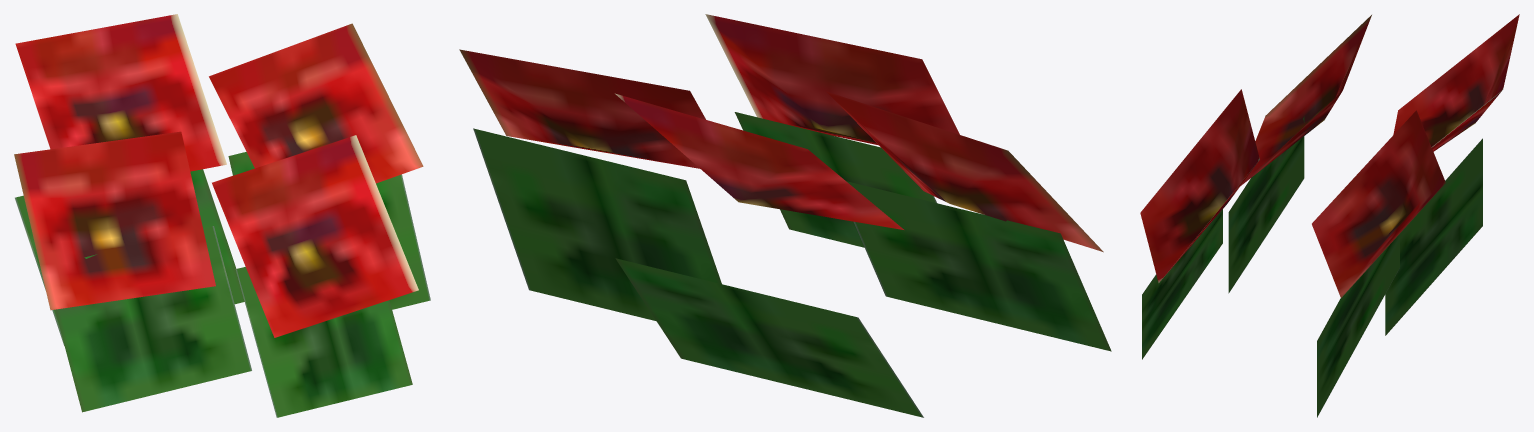
Rendered from flw_pansy_rd.dae.
The picture shows the model from 3 angles, left to right: view 1: azimuth 30°, elevation 25°; view 2: azimuth 150°, elevation 25°; view 3: azimuth 270°, elevation 25°; orthographic projection. The views are drawn at different scales.
Visible parts, largest first — view 1: flw_pansy_rd; view 2: flw_pansy_rd; view 3: flw_pansy_rd.
Part boxes in pixels (box(x1,y1,x2,y2)): flw_pansy_rd: box(14, 14, 430, 417); flw_pansy_rd: box(459, 14, 1111, 417); flw_pansy_rd: box(1140, 14, 1519, 417).
Bounding box in the file's own units: 32.39 × 19.38 × 26.27.
Materials: 1 (1 with a texture image).
